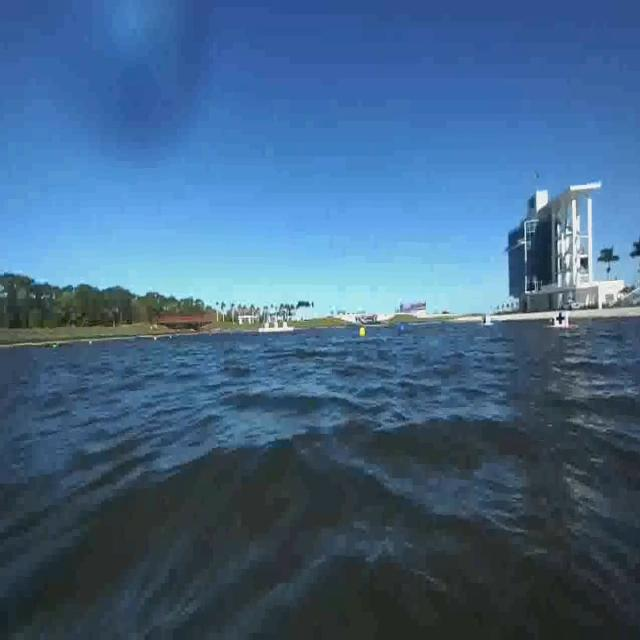blue-buoy: (398, 324, 406, 337)
yellow-buoy: (359, 325, 366, 337)
